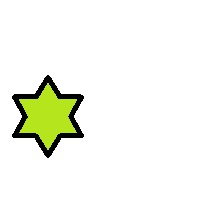star: (12, 76, 84, 159)
